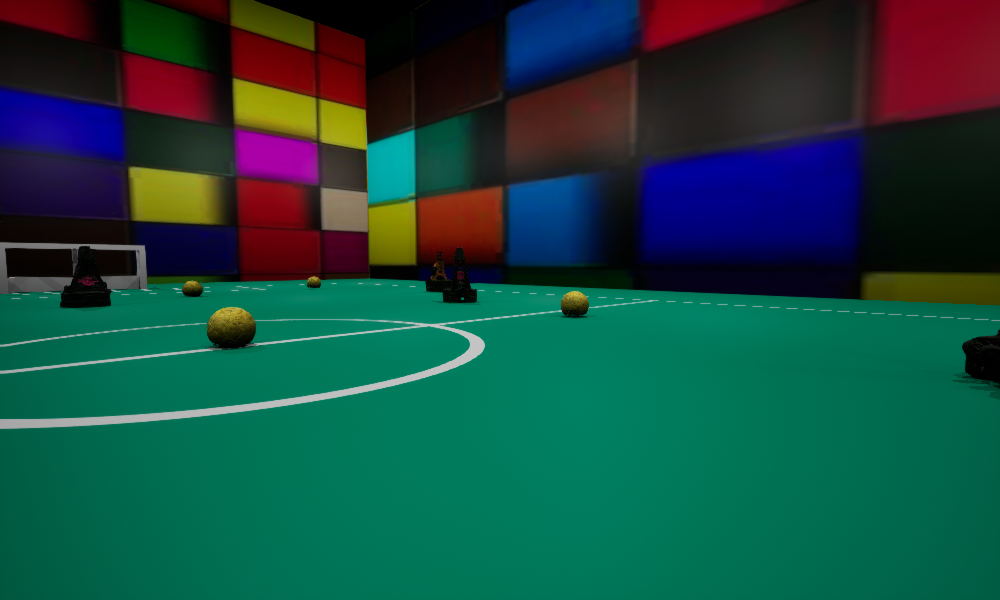b: (207, 307, 255, 347), (561, 291, 588, 316), (182, 280, 202, 295), (307, 276, 320, 287)
o: (425, 252, 451, 291)
p1: (60, 246, 111, 307), (443, 247, 476, 302)
p2: (962, 329, 999, 382)
